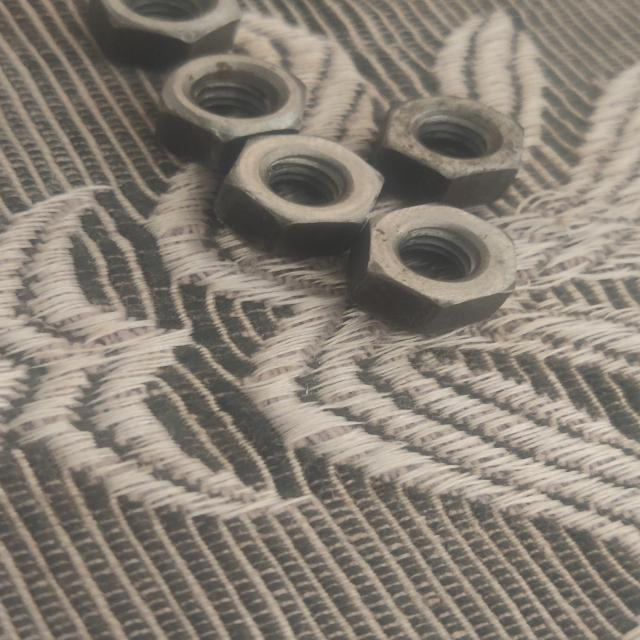disinfected nut: (347, 205, 517, 335), (217, 135, 383, 258), (157, 55, 303, 170), (373, 98, 523, 208), (90, 0, 240, 68)
